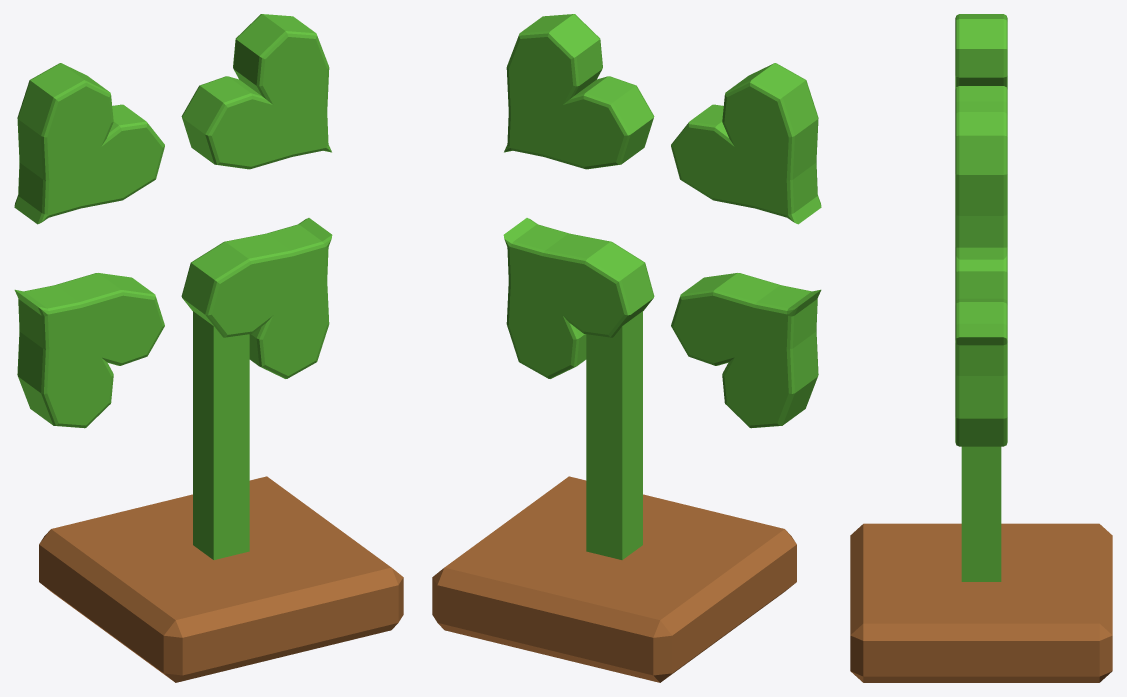
The model's file is GiantShamrock.fbx.
3 views of the same model, side by side, from view 1: azimuth 30°, elevation 25°; view 2: azimuth 150°, elevation 25°; view 3: azimuth 270°, elevation 25° (orthographic). The views are drawn at different scales.
Parts seen in each view (by area): view 1: GiantShamrock; view 2: GiantShamrock; view 3: GiantShamrock.
Part boxes in pixels (x1,y1,x2,y2): GiantShamrock: [14, 14, 403, 682]; GiantShamrock: [432, 14, 821, 682]; GiantShamrock: [850, 14, 1112, 682].
Size of the model in its own units: 2.63 by 4.59 by 2.
1 material, 1 textured.
